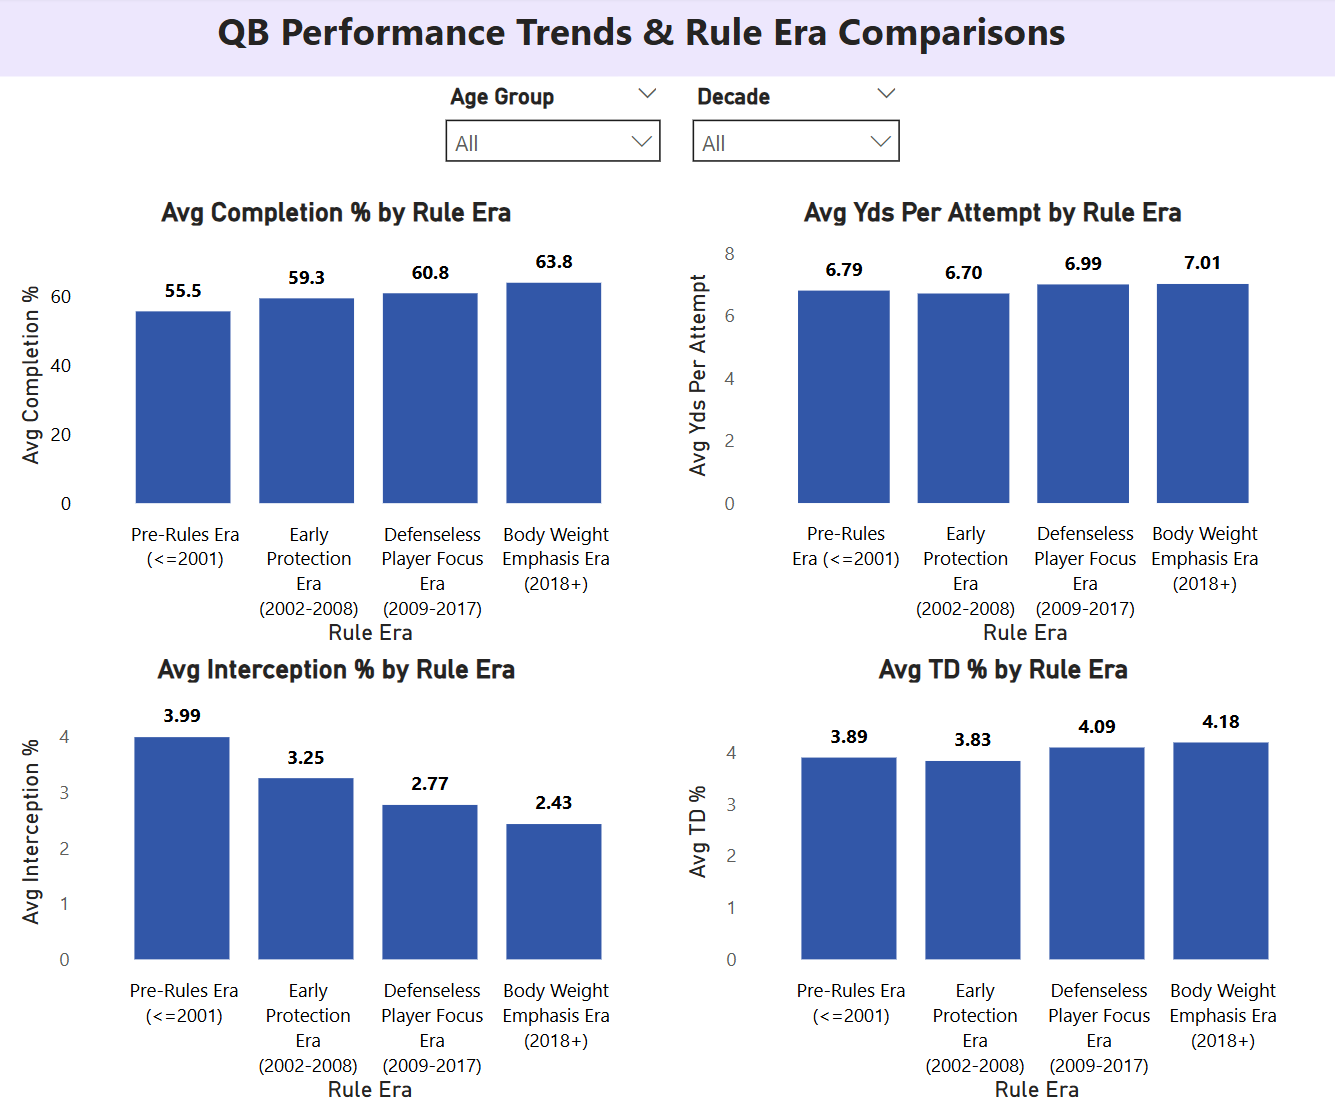

The dashboard page shown, as its layout file describes it:
{"tool":"powerbi","page":{"name":"Performance By Era","canvas":[1280,720],"ordinal":2},"visuals":[{"type":"clusteredColumnChart","fields":{"Category":["pass_cleaned.Rule_Era"],"Y":["pass_cleaned.Avg Completion %"]},"box":[234.8,127.7,419,293.2],"z":0},{"type":"clusteredColumnChart","fields":{"Category":["pass_cleaned.Rule_Era"],"Y":["pass_cleaned.Avg Yds Per Attempt"]},"box":[662.8,127.7,405.5,293.2],"z":1000},{"type":"clusteredColumnChart","fields":{"Category":["pass_cleaned.Rule_Era"],"Y":["pass_cleaned.Avg TD %"]},"box":[662.8,420.9,419,292.6],"z":2000},{"type":"clusteredColumnChart","fields":{"Category":["pass_cleaned.Rule_Era"],"Y":["pass_cleaned.Avg Interception %"]},"box":[234.8,420.9,419,292.6],"z":3000},{"type":"slicer","fields":{"Values":["pass_cleaned.Age_Group"]},"box":[504.3,50.7,158.5,63.5],"z":4000},{"type":"slicer","fields":{"Values":["pass_cleaned.Decade"]},"box":[662.8,50.7,153.3,63.5],"z":5000},{"type":"textbox","box":[0,0,1280,50.7],"z":6001}]}

Visuals, with their boxes on the page's 1280x720 design canvas (x1, y1, x2, y2). These are canvas units, not pixel positions in the 1335x1101 screenshot, which may show the page scaled, cropped or inside an application window:
clusteredColumnChart - pass_cleaned.Rule_Era x pass_cleaned.Avg Completion %: 235:128:654:421
clusteredColumnChart - pass_cleaned.Rule_Era x pass_cleaned.Avg Yds Per Attempt: 663:128:1068:421
clusteredColumnChart - pass_cleaned.Rule_Era x pass_cleaned.Avg TD %: 663:421:1082:714
clusteredColumnChart - pass_cleaned.Rule_Era x pass_cleaned.Avg Interception %: 235:421:654:714
slicer - pass_cleaned.Age_Group: 504:51:663:114
slicer - pass_cleaned.Decade: 663:51:816:114
textbox: 0:0:1280:51
